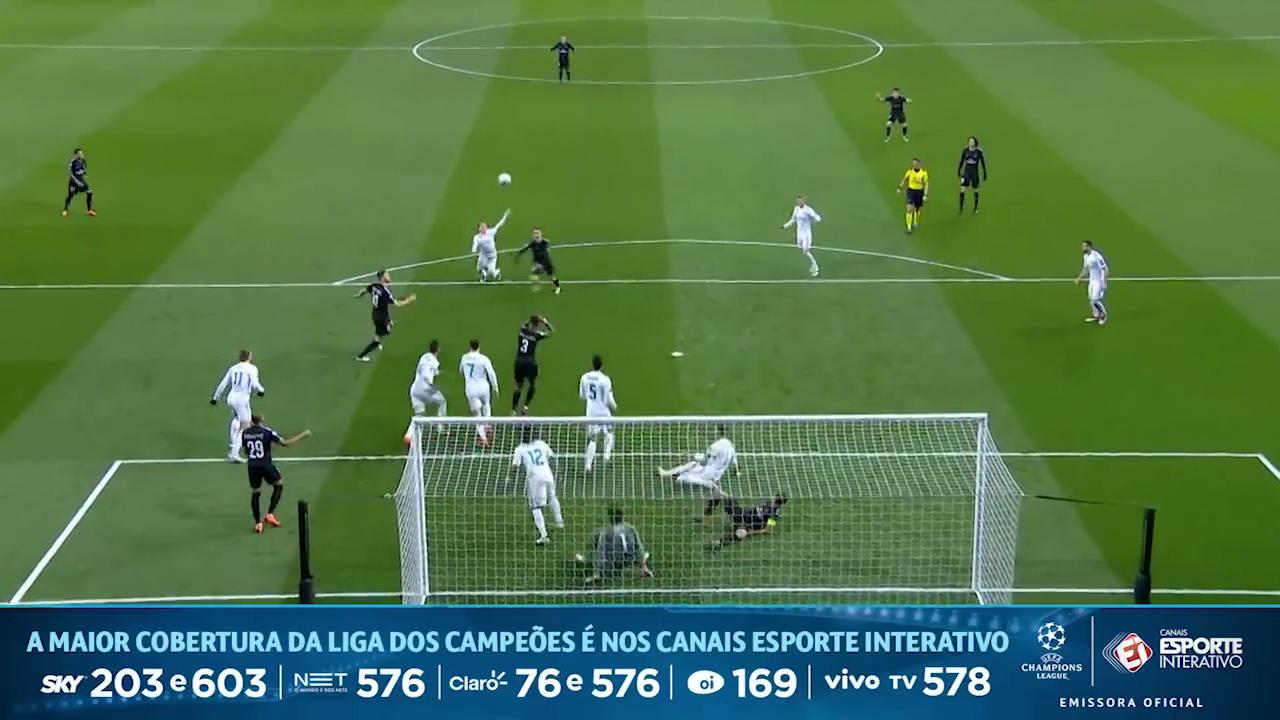football: (498, 173, 511, 185)
player: (241, 415, 310, 532), (210, 350, 265, 461), (512, 426, 563, 544), (575, 508, 652, 584), (354, 270, 415, 361), (658, 427, 736, 497), (708, 493, 786, 551), (579, 354, 616, 472), (512, 315, 553, 414), (459, 339, 498, 417), (782, 196, 820, 276), (409, 340, 446, 416), (517, 228, 560, 293), (471, 209, 509, 281), (1076, 240, 1108, 324), (62, 148, 95, 216), (957, 136, 986, 213), (876, 88, 910, 141), (551, 36, 574, 81)
referee: (898, 158, 928, 233)
